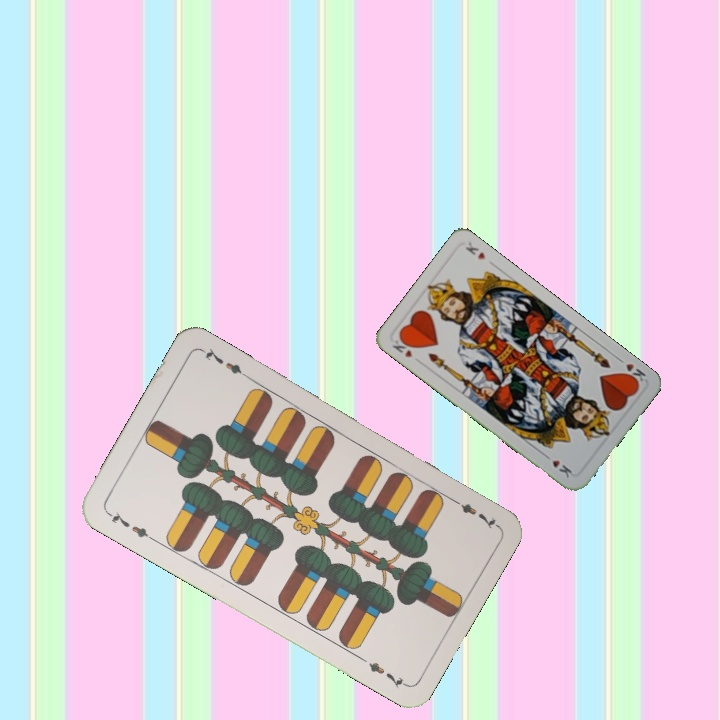E7: (446, 493, 500, 532), (103, 507, 157, 543)
HK: (613, 353, 648, 387), (388, 333, 416, 360)
